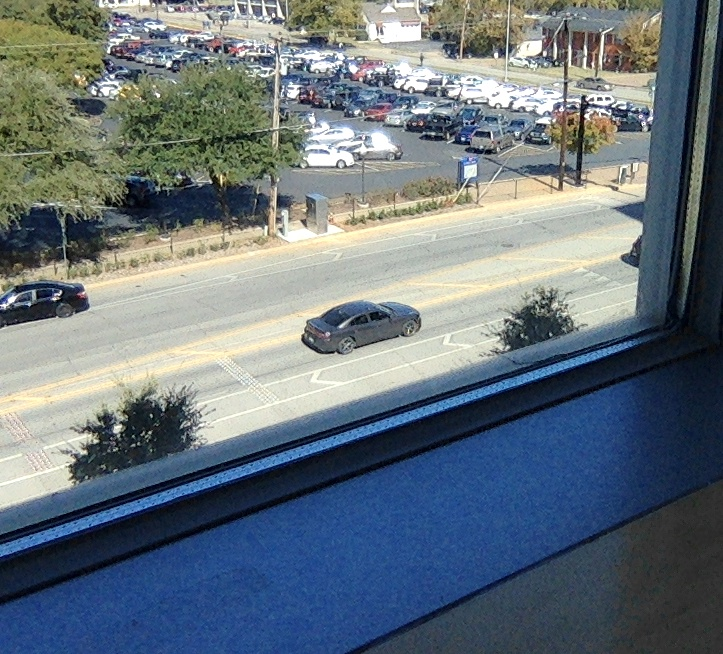car: (300, 300, 423, 356)
